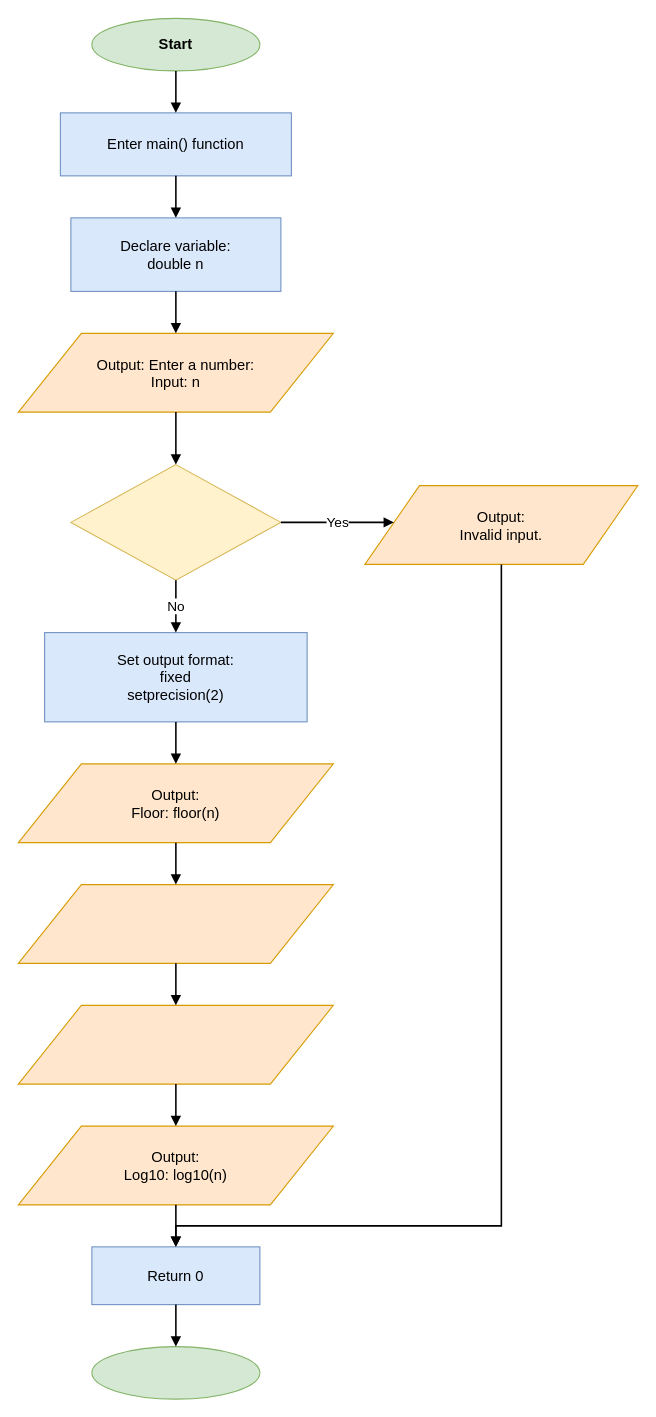
Image size: 656x1417. Some labels were removed from this diagram. Here are the shapes that lost their labels. From the top down, the centre of each, then its label:
At pixel 175 522: "n <= 0 ?".
At pixel 175 923: "Output: Ceiling: ceil(n)".
At pixel 175 1044: "Output: Absolute value: abs(n)".
At pixel 175 1372: "End".
